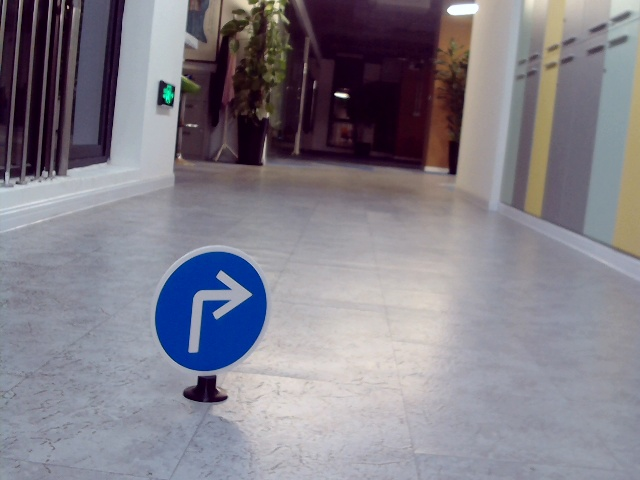turn_right: (178, 266, 251, 356)
